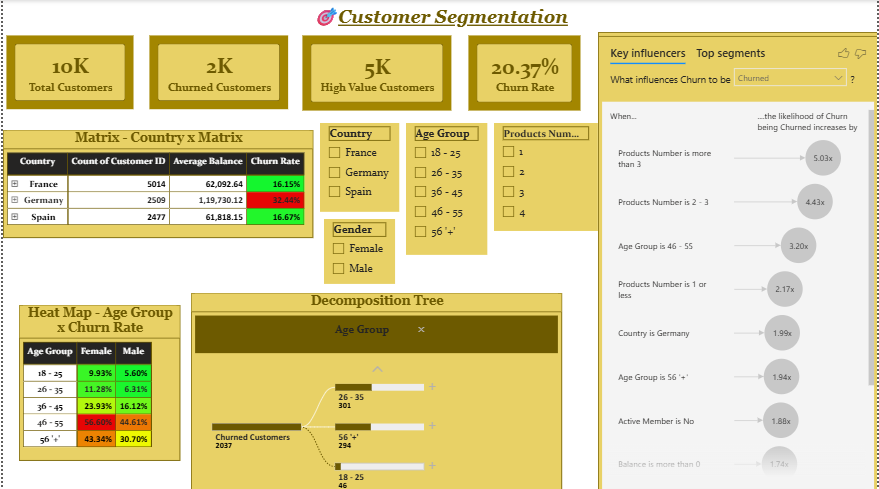

This screenshot's page, from the dashboard's own definition file:
{"tool":"powerbi","page":{"name":"Customer Segmentation","canvas":[1280,720],"ordinal":7},"visuals":[{"type":"textbox","box":[0,0,1280.5,46.8],"z":0},{"type":"cardVisual","fields":{"Data":["Bank Customer Churn Prediction.Total Customers"]},"box":[0,46.8,196.1,118.5],"z":1000},{"type":"cardVisual","fields":{"Data":["Bank Customer Churn Prediction.Churned Customers"]},"box":[209.3,46.8,213.7,118.5],"z":2000},{"type":"cardVisual","fields":{"Data":["Bank Customer Churn Prediction.Churn Rate"]},"box":[676.1,46.8,174.1,120],"z":3000},{"type":"cardVisual","fields":{"Data":["Bank Customer Churn Prediction.High Value Customers"]},"box":[433.2,46.8,228.3,120],"z":4000},{"type":"pivotTable","title":"Matrix - Country x Matrix","fields":{"Rows":["Bank Customer Churn Prediction.Country","Bank Customer Churn Prediction.Products Number"],"Values":["CountNonNull(Bank Customer Churn Prediction.Customer ID)","Bank Customer Churn Prediction.Average Balance","Bank Customer Churn Prediction.Churn Rate"]},"box":[0,190.2,453.7,158],"z":5000},{"type":"pivotTable","title":"Heat Map - Age Group x Churn Rate","fields":{"Rows":["Bank Customer Churn Prediction.Age Group"],"Columns":["Bank Customer Churn Prediction.Gender"],"Values":["Bank Customer Churn Prediction.Churn Rate"]},"box":[23.4,446.3,235.6,228.3],"z":6000},{"type":"decompositionTreeVisual","title":"Decomposition Tree","fields":{"Analyze":["Bank Customer Churn Prediction.Churned Customers"],"ExplainBy":["Bank Customer Churn Prediction.Age Group","Bank Customer Churn Prediction.Credit Score Bands","Bank Customer Churn Prediction.Products Number","Bank Customer Churn Prediction.Gender","Bank Customer Churn Prediction.Active Member","Bank Customer Churn Prediction.Country"]},"box":[275.1,428.8,542.9,291.2],"z":7000},{"type":"keyDriversVisual","fields":{"Target":["Bank Customer Churn Prediction.Churn"],"ExplainBy":["Bank Customer Churn Prediction.Age Group","Bank Customer Churn Prediction.Credit Score Bands","Bank Customer Churn Prediction.Products Number","Bank Customer Churn Prediction.Active Member","Bank Customer Churn Prediction.Country","Bank Customer Churn Prediction.Gender","Bank Customer Churn Prediction.Salary Band","Bank Customer Churn Prediction.Balance"]},"box":[870.7,46.8,409.8,673.2],"z":8000},{"type":"slicer","fields":{"Values":["Bank Customer Churn Prediction.Country"]},"box":[463.9,180,115.6,130.2],"z":9000},{"type":"slicer","fields":{"Values":["Bank Customer Churn Prediction.Gender"]},"box":[469.8,320.5,103.9,95.1],"z":10000},{"type":"slicer","fields":{"Values":["Bank Customer Churn Prediction.Age Group"]},"box":[589.8,180,118.5,193.2],"z":11000},{"type":"slicer","fields":{"Values":["Bank Customer Churn Prediction.Products Number"]},"box":[718.5,180,152.2,158],"z":12000}]}

Visuals, with their boxes in screenshot pixels (x1, y1, x2, y2), scaled from the page's 1280x720 canvas onto the 879x489 screenshot:
textbox: x1=0 y1=0 x2=878 y2=32
cardVisual - Bank Customer Churn Prediction.Total Customers: x1=0 y1=32 x2=135 y2=112
cardVisual - Bank Customer Churn Prediction.Churned Customers: x1=144 y1=32 x2=290 y2=112
cardVisual - Bank Customer Churn Prediction.Churn Rate: x1=464 y1=32 x2=584 y2=113
cardVisual - Bank Customer Churn Prediction.High Value Customers: x1=297 y1=32 x2=454 y2=113
"Matrix - Country x Matrix" pivotTable: x1=0 y1=129 x2=312 y2=236
"Heat Map - Age Group x Churn Rate" pivotTable: x1=16 y1=303 x2=178 y2=458
"Decomposition Tree" decompositionTreeVisual: x1=189 y1=291 x2=562 y2=488
keyDriversVisual - Bank Customer Churn Prediction.Churn x Bank Customer Churn Prediction.Age Group: x1=598 y1=32 x2=878 y2=488
slicer - Bank Customer Churn Prediction.Country: x1=319 y1=122 x2=398 y2=211
slicer - Bank Customer Churn Prediction.Gender: x1=323 y1=218 x2=394 y2=282
slicer - Bank Customer Churn Prediction.Age Group: x1=405 y1=122 x2=486 y2=253
slicer - Bank Customer Churn Prediction.Products Number: x1=493 y1=122 x2=598 y2=230
